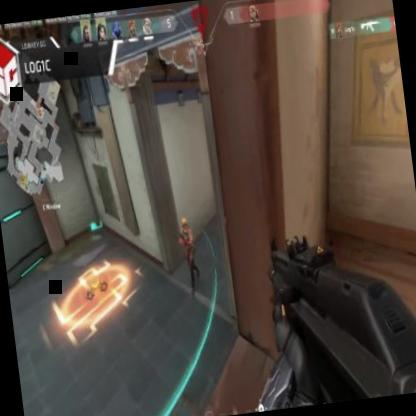enemy: (176, 216, 202, 296)
enemy_head: (180, 218, 188, 232)
